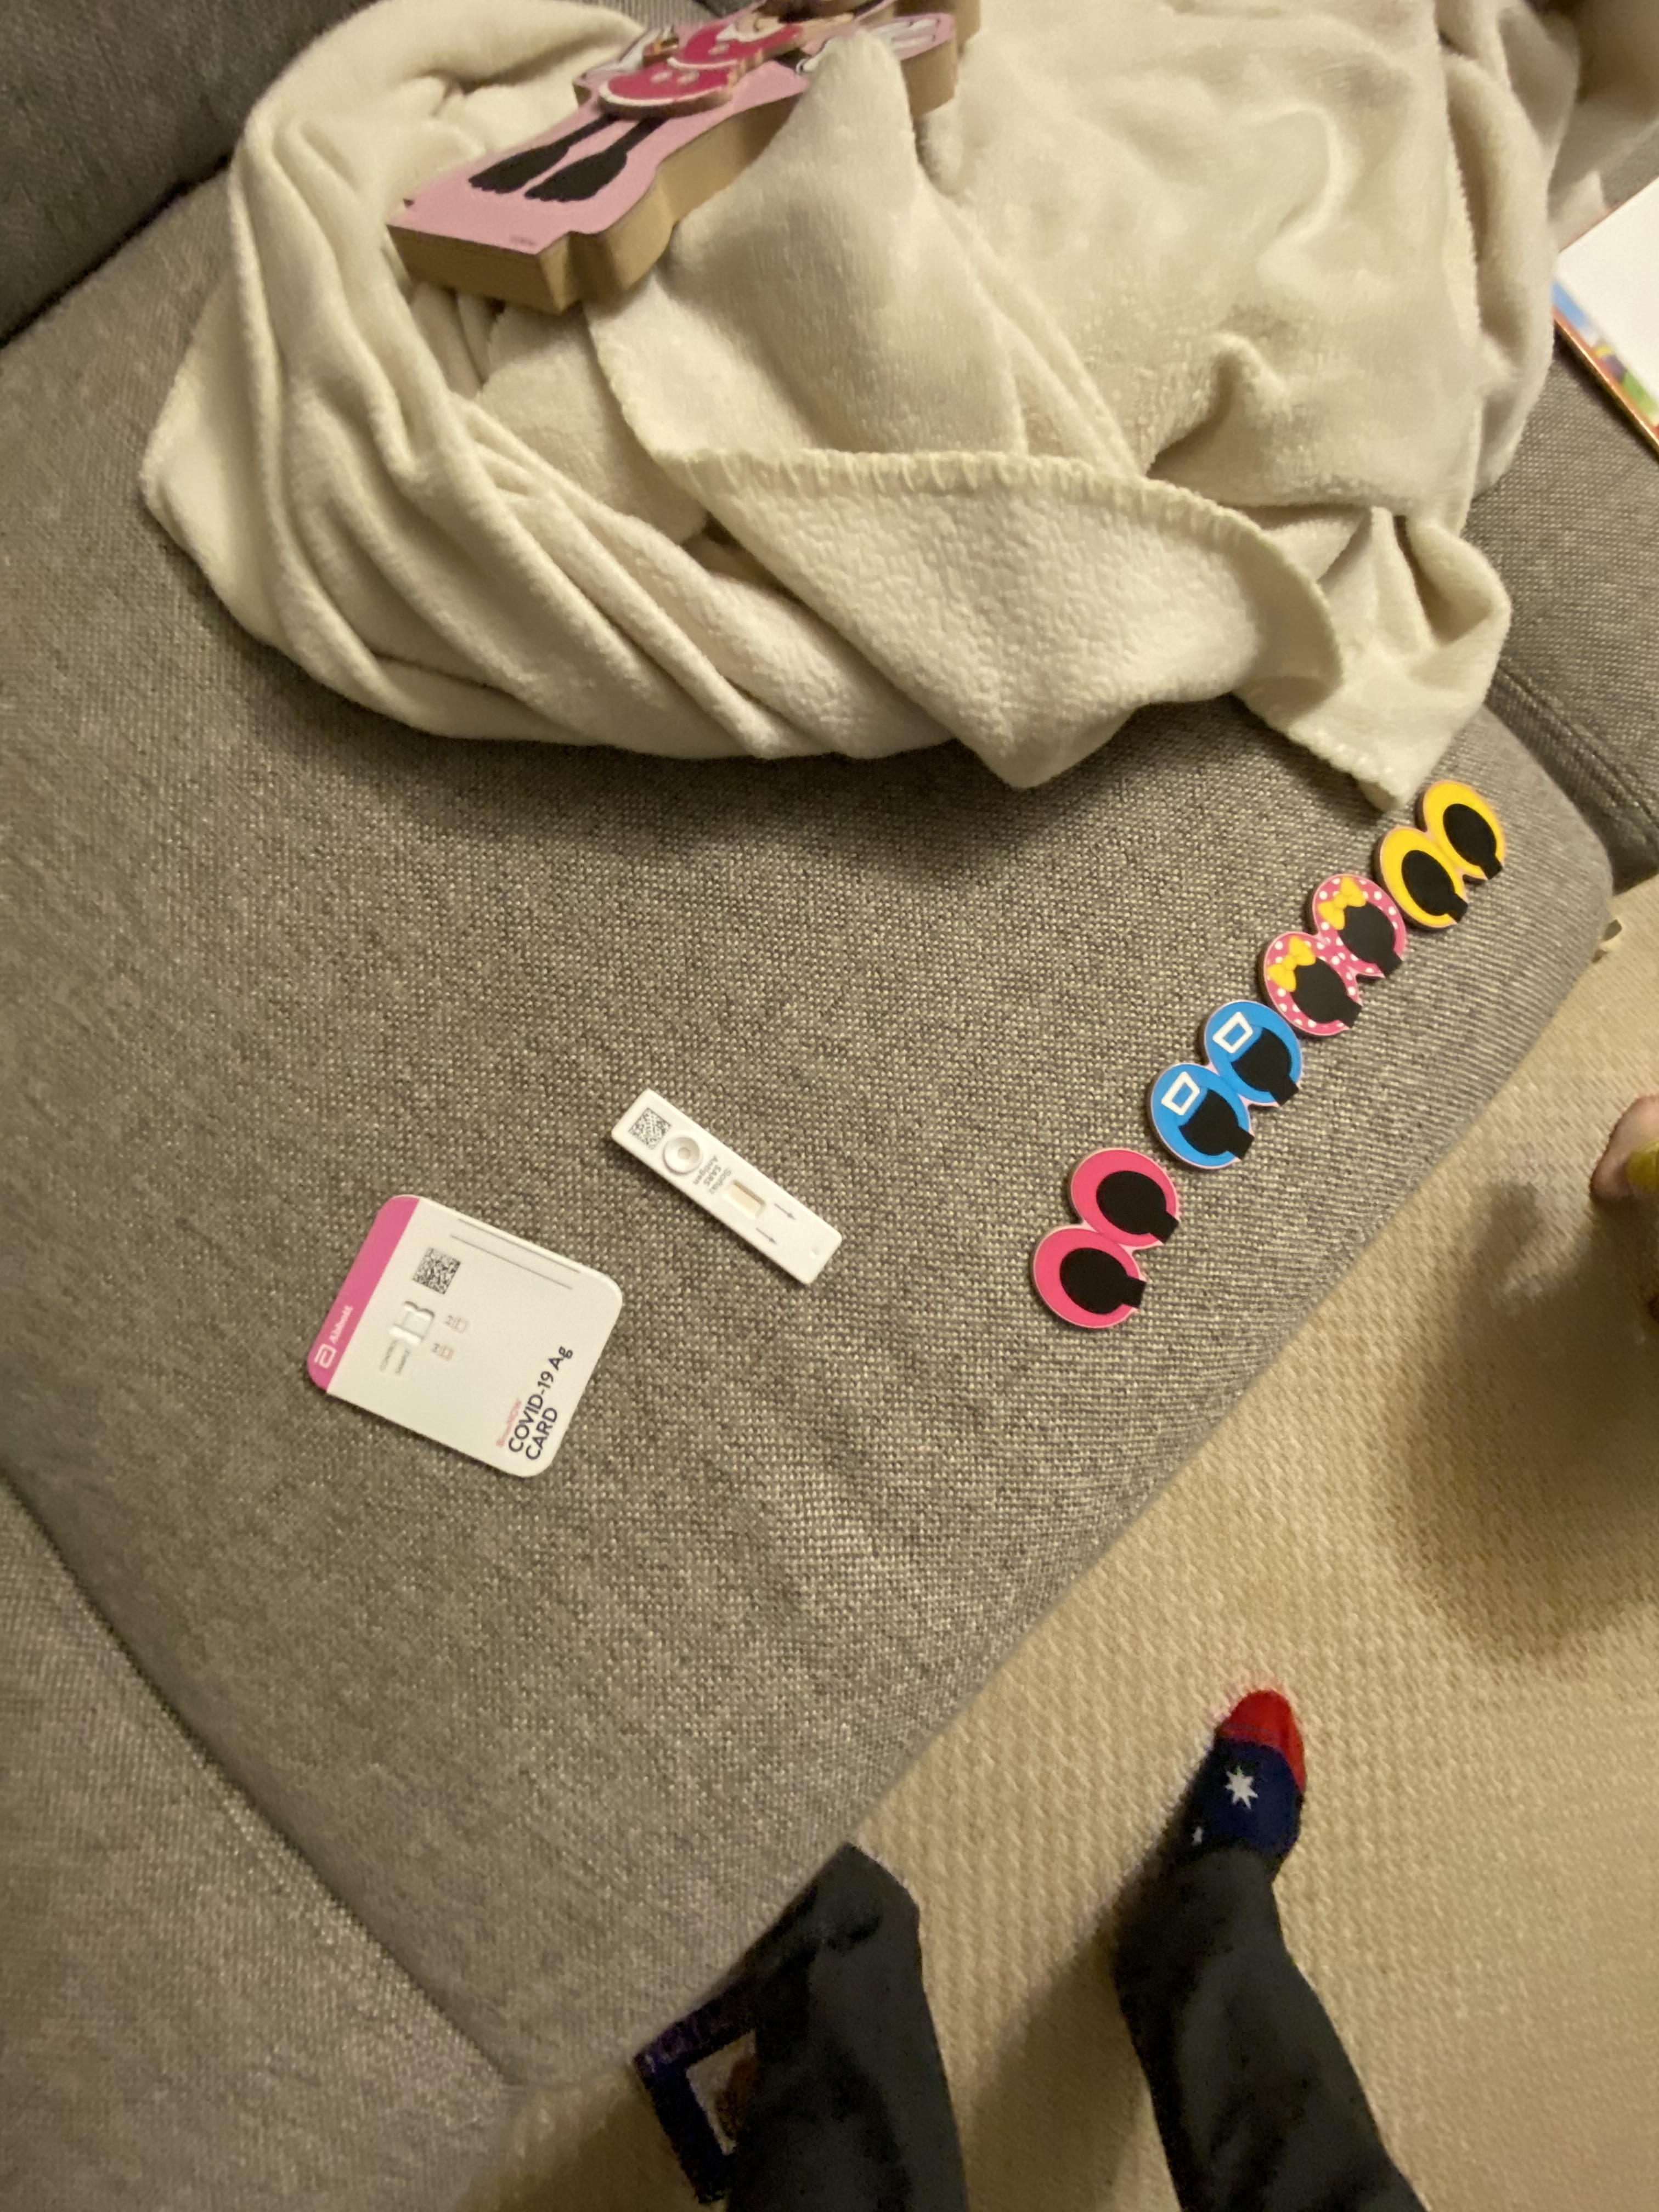binax: (298, 1184, 624, 1493)
quidel: (610, 1083, 856, 1284)
